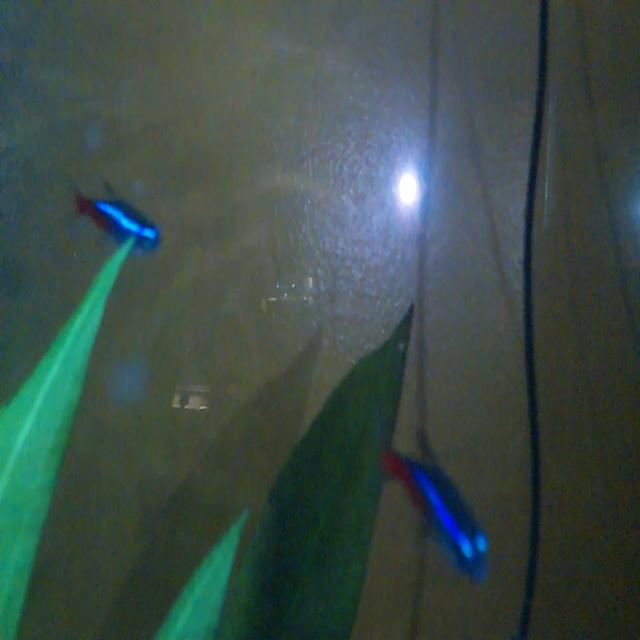fish: (372, 422, 501, 586), (71, 164, 166, 268)
